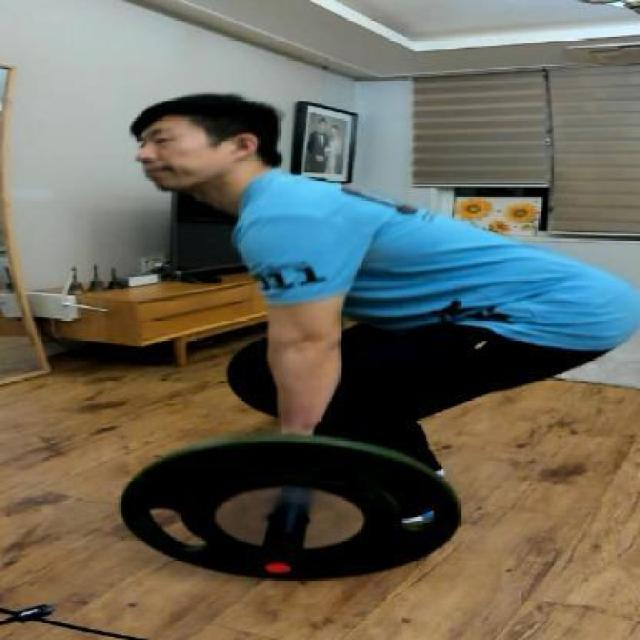barbell: (113, 429, 463, 587)
